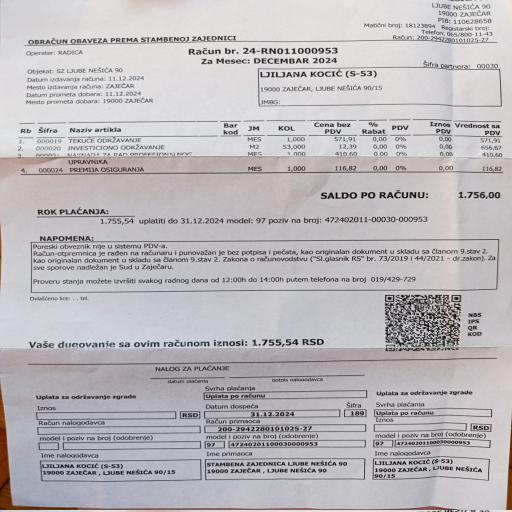stambena_zajednica: (34, 117, 506, 177)
stambena_zajednica_iznos: (28, 335, 336, 355)
